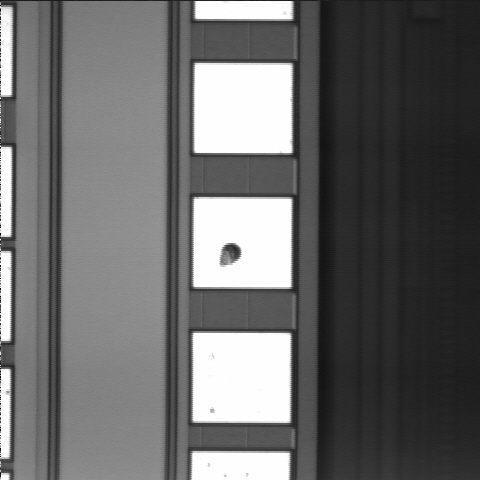pad: (194, 63, 292, 153), (194, 197, 292, 287), (193, 333, 291, 423)
